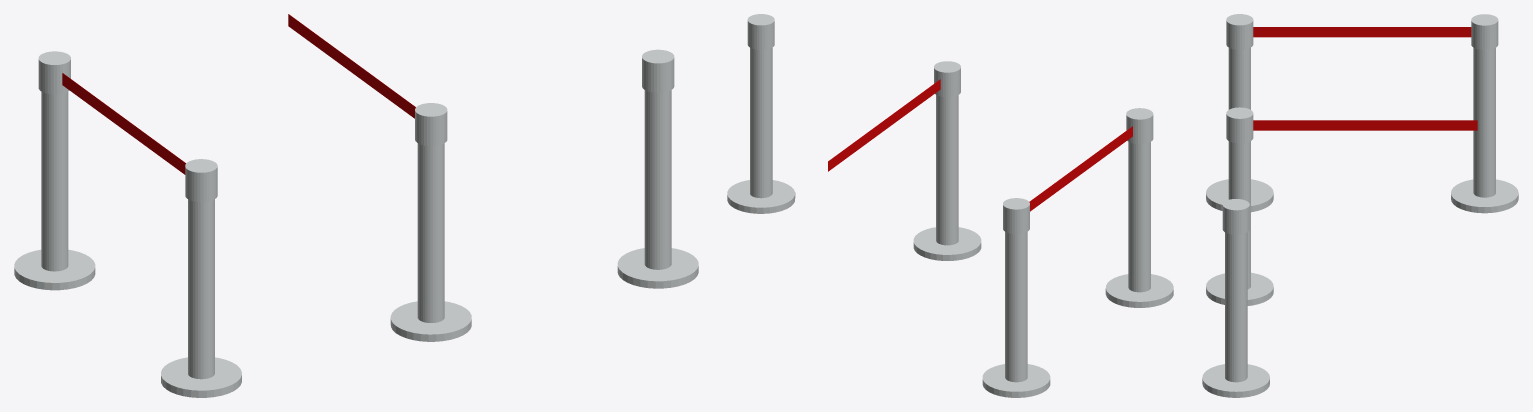
Rendered from queue.fbx.
3 views of the same model, side by side, from view 1: azimuth 30°, elevation 25°; view 2: azimuth 150°, elevation 25°; view 3: azimuth 270°, elevation 25° (orthographic). The views are drawn at different scales.
Visible parts, largest first — view 1: Cylinder.002, Cylinder.001, Cylinder, Cylinder.003, Cylinder.base.001, Cylinder.base.003, Cylinder.base, Cylinder.base.005, Cube, Cube.001, Cylinder.top.001, Cylinder.top.006 (+2 smaller); view 2: Cylinder.002, Cylinder.003, Cylinder, Cylinder.001, Cylinder.base.003, Cylinder.base, Cylinder.base.001, Cylinder.base.005, Cube, Cube.001, Cylinder.top.001, Cylinder.top.004 (+2 smaller); view 3: Cylinder.001, Cylinder.002, Cube, Cube.001, Cylinder, Cylinder.base.003, Cylinder.base.001, Cylinder.003, Cylinder.base, Cylinder.base.005, Cylinder.top, Cylinder.top.006 (+2 smaller).
Part boxes in pixels (x1,y1,x2,y2): Cylinder.002: (41,91,68,271); Cylinder.001: (644,90,671,269); Cylinder: (417,143,444,322); Cylinder.003: (188,199,214,379); Cylinder.base.001: (617,248,698,288); Cylinder.base.003: (14,249,95,290); Cylinder.base: (390,301,471,341); Cylinder.base.005: (161,357,241,397); Cube: (288,14,415,118); Cube.001: (62,73,185,174); Cylinder.top.001: (642,49,674,92); Cylinder.top.006: (185,159,217,202); Cylinder.002: (1005,232,1027,382); Cylinder.003: (1128,142,1150,292); Cylinder: (936,95,958,245); Cylinder.001: (750,47,772,198); Cylinder.base.003: (982,364,1050,397); Cylinder.base: (913,227,981,260); Cylinder.base.001: (727,180,795,213); Cylinder.base.005: (1105,274,1173,307); Cube: (828,79,940,171); Cube.001: (1029,126,1132,211); Cylinder.top.001: (747,14,774,49); Cylinder.top.004: (1003,198,1029,234); Cylinder.001: (1225,232,1247,382); Cylinder.002: (1473,47,1495,197); Cube: (1253,120,1477,130); Cube.001: (1253,27,1471,37); Cylinder: (1228,141,1250,289); Cylinder.base.003: (1451,179,1518,213); Cylinder.base.001: (1202,364,1269,397); Cylinder.003: (1228,47,1250,109); Cylinder.base: (1206,272,1273,305); Cylinder.base.005: (1206,179,1273,212); Cylinder.top: (1226,107,1253,143); Cylinder.top.006: (1226,14,1253,49).
Size of the model in its own units: 447 by 175 by 280.
